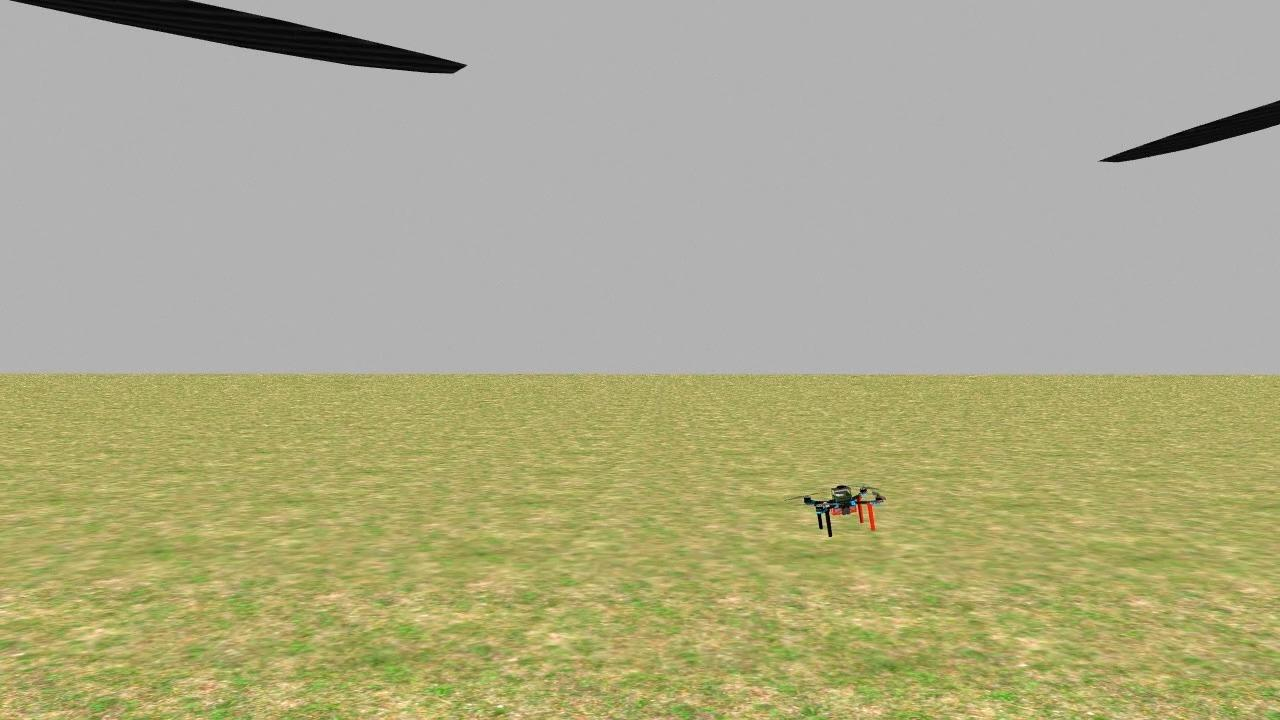UAV: (794, 471, 894, 546)
